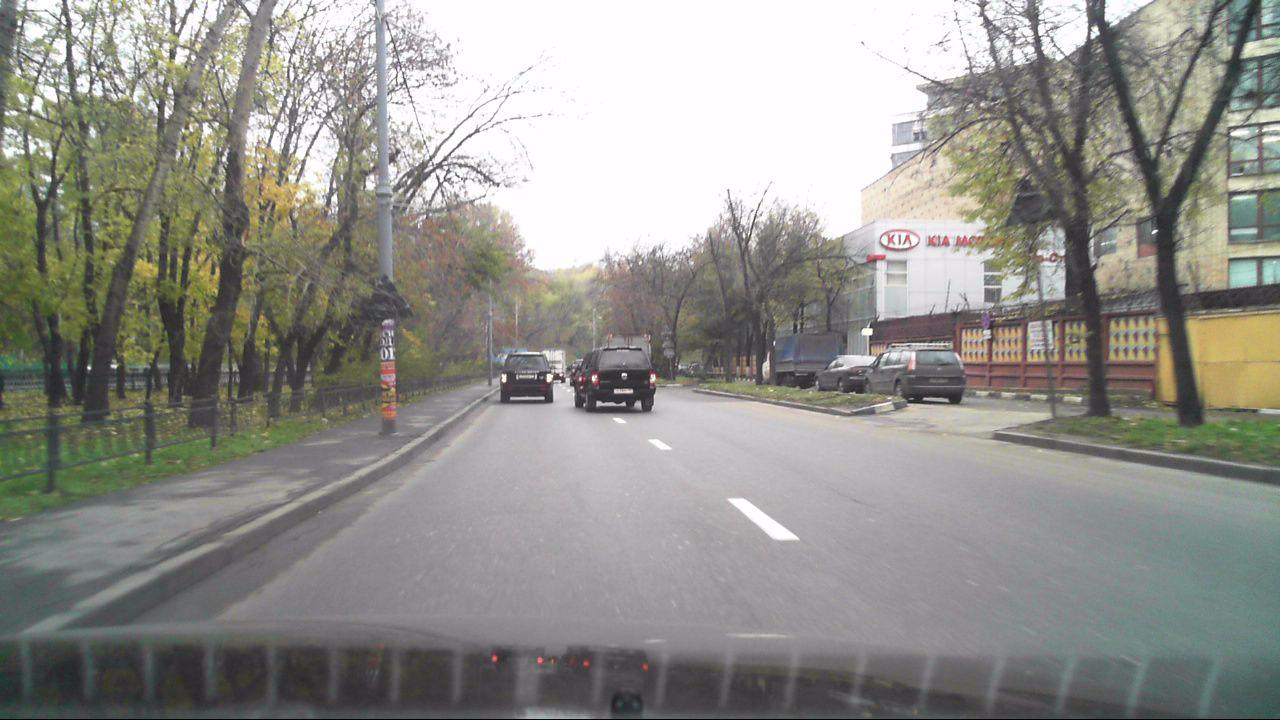No Parking: (978, 307, 994, 330)
